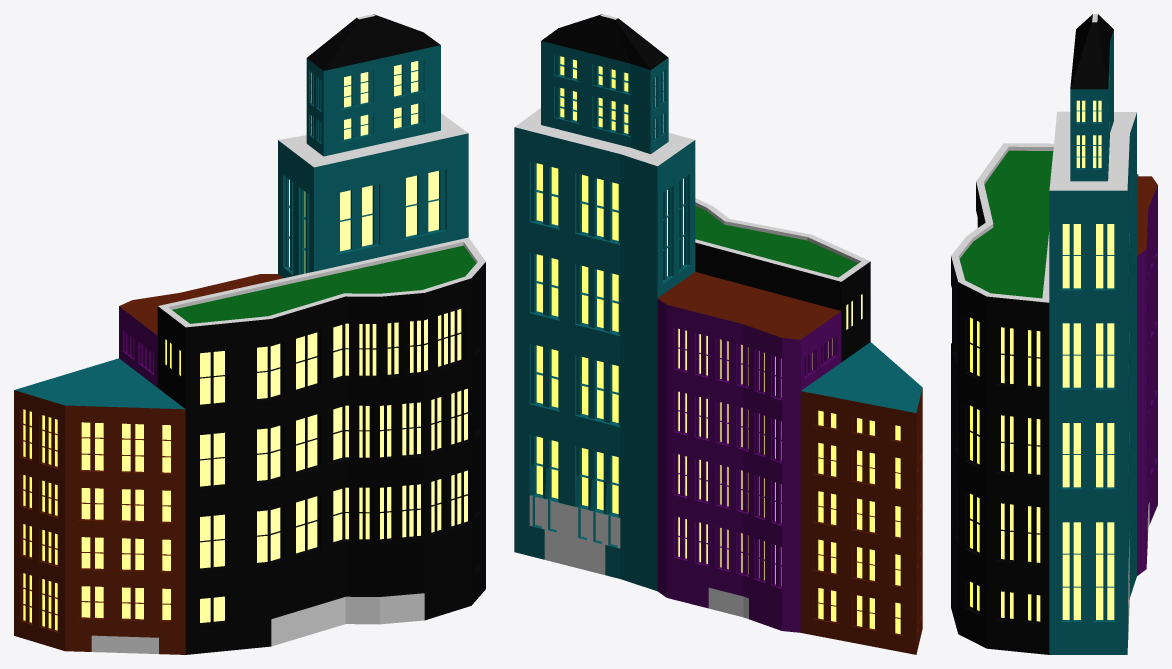
Rendered from celebracion_complex.fbx.
3 renders of one model, left to right at view 1: azimuth 30°, elevation 25°; view 2: azimuth 150°, elevation 25°; view 3: azimuth 270°, elevation 25°, orthographic. The views are drawn at different scales.
Parts seen in each view (by area): view 1: Plane; view 2: Plane; view 3: Plane.
Boxes of the visible parts, box(x1,y1,x2,y2) form: Plane: box(14, 14, 485, 654); Plane: box(514, 14, 922, 654); Plane: box(951, 14, 1157, 654).
Size of the model in its own units: 1453 by 1856 by 586.
